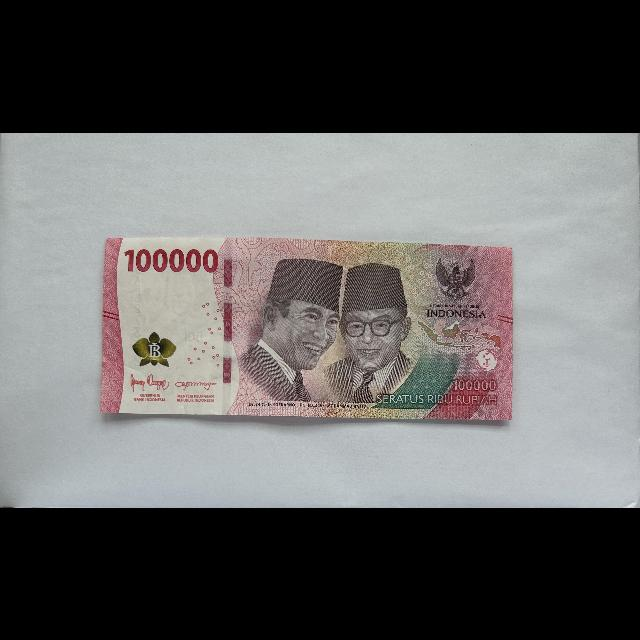Asli-100k: (100, 235, 515, 422)
Tinta-Asli-100k: (131, 330, 177, 367)
